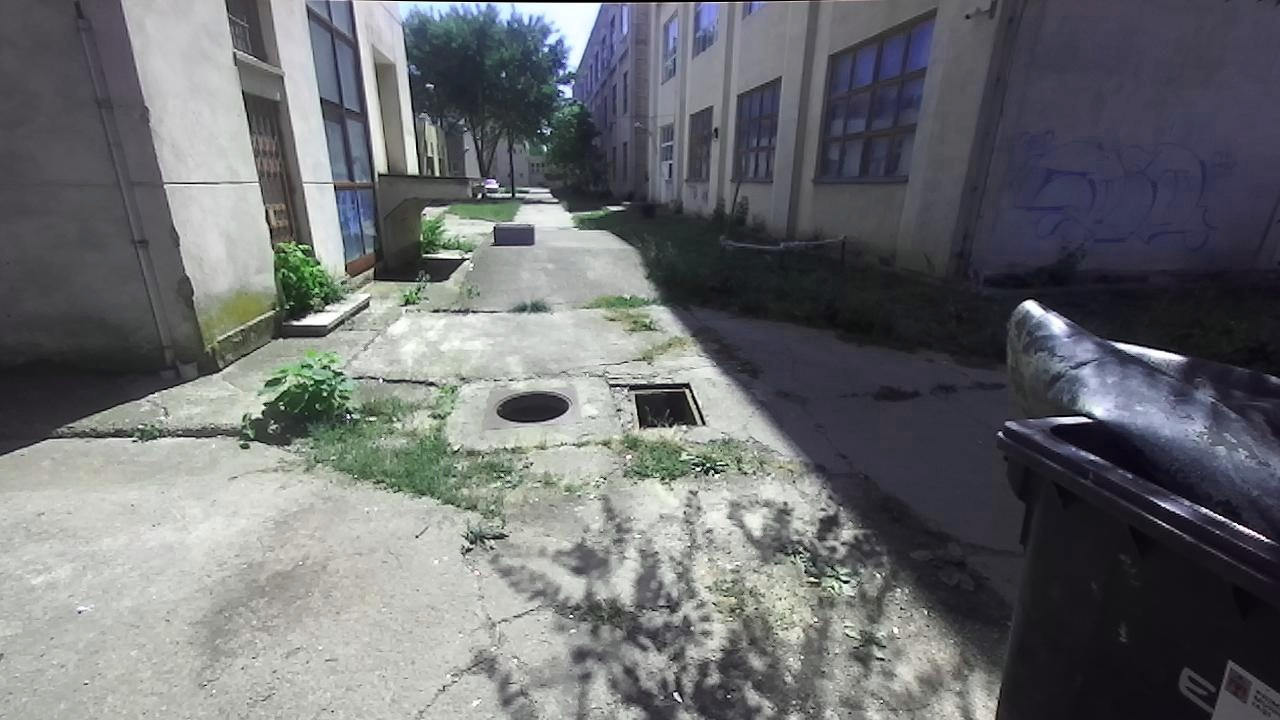drain: (625, 379, 710, 431), (489, 384, 577, 426)
